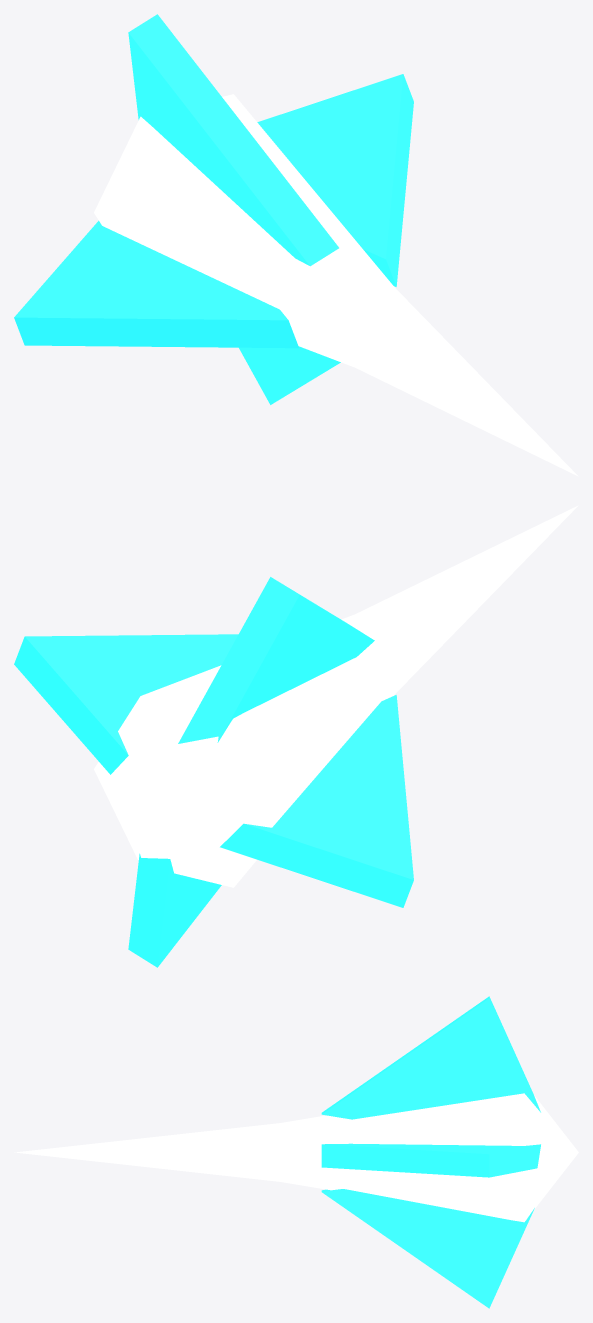
The model's file is flash.glb.
The picture shows the model from 3 angles, top to bottom: view 1: azimuth 30°, elevation 25°; view 2: azimuth 150°, elevation 25°; view 3: azimuth 270°, elevation 25°; orthographic projection. The views are drawn at different scales.
Parts seen in each view (by area): view 1: FX solid white needle.001, FX short cyan petal 02.001, FX short cyan petal 01.001, FX short cyan petal 00.001, FX short cyan petal 03.001; view 2: FX solid white needle.001, FX short cyan petal 02.001, FX short cyan petal 00.001, FX short cyan petal 01.001, FX short cyan petal 03.001; view 3: FX solid white needle.001, FX short cyan petal 01.001, FX short cyan petal 03.001, FX short cyan petal 00.001.
Part boxes in pixels (x1,y1,x2,y2): FX solid white needle.001: [94, 94, 578, 476]; FX short cyan petal 02.001: [14, 220, 298, 348]; FX short cyan petal 01.001: [128, 14, 338, 266]; FX short cyan petal 00.001: [257, 74, 413, 286]; FX short cyan petal 03.001: [239, 346, 340, 404]; FX solid white needle.001: [94, 505, 578, 887]; FX short cyan petal 02.001: [220, 695, 413, 907]; FX short cyan petal 00.001: [14, 634, 238, 774]; FX short cyan petal 01.001: [178, 577, 374, 743]; FX short cyan petal 03.001: [128, 853, 221, 967]; FX solid white needle.001: [14, 1093, 578, 1222]; FX short cyan petal 01.001: [321, 996, 540, 1119]; FX short cyan petal 03.001: [321, 1189, 534, 1308]; FX short cyan petal 00.001: [321, 1143, 540, 1177].
Size of the model in its own units: 0.0772 by 0.0772 by 0.145.
